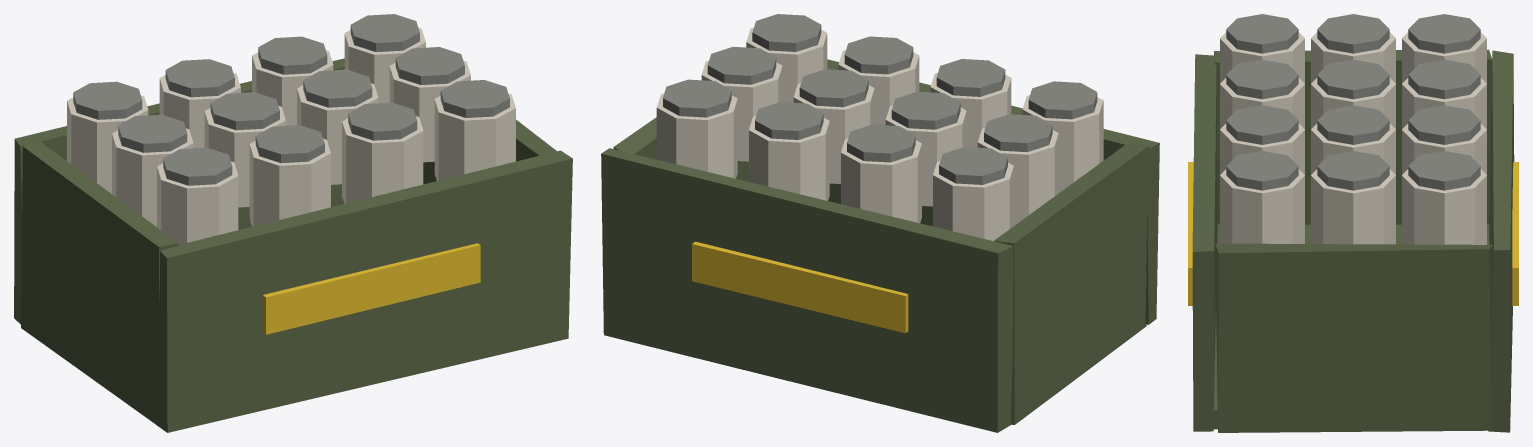
The model's file is good_rations.glb.
3 views of the same model, side by side, from view 1: azimuth 30°, elevation 25°; view 2: azimuth 150°, elevation 25°; view 3: azimuth 270°, elevation 25° (orthographic).
Parts seen in each view (by area): view 1: good_rations; view 2: good_rations; view 3: good_rations.
Boxes of the visible parts, x1=… form: good_rations: x1=14, y1=14, x2=572, y2=432; good_rations: x1=601, y1=14, x2=1159, y2=432; good_rations: x1=1188, y1=14, x2=1518, y2=432.
Size of the model in its own units: 0.5672 by 0.312 by 0.396.
